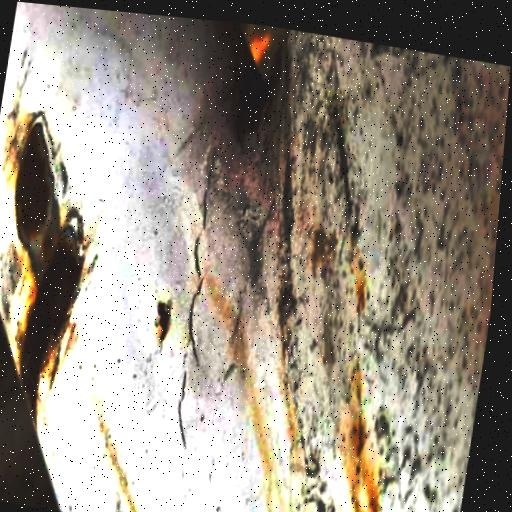crack: (131, 142, 246, 462)
